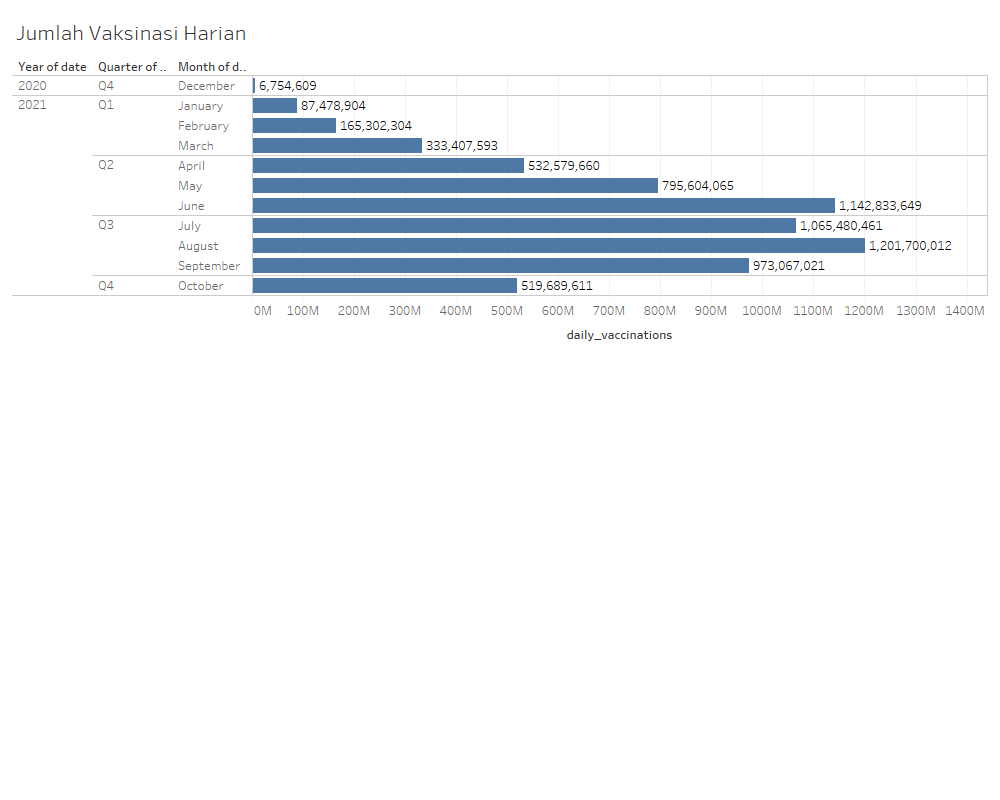

What the dashboard file says about the page in this screenshot:
{"tool":"tableau","page":{"name":"Dashboard 1","canvas":[1000,800],"ordinal":0},"visuals":[{"type":"worksheet","title":"Sheet 7","mark":"Automatic","rows":["country"],"cols":["people_fully_vaccinated"],"box":[8,8,984,784]}]}

Visuals, with their boxes in screenshot pixels (x1, y1, x2, y2), scaled from the page's 1000x800 canvas onto the 1000x800 screenshot:
"Sheet 7" worksheet: Rect(8, 8, 992, 792)
